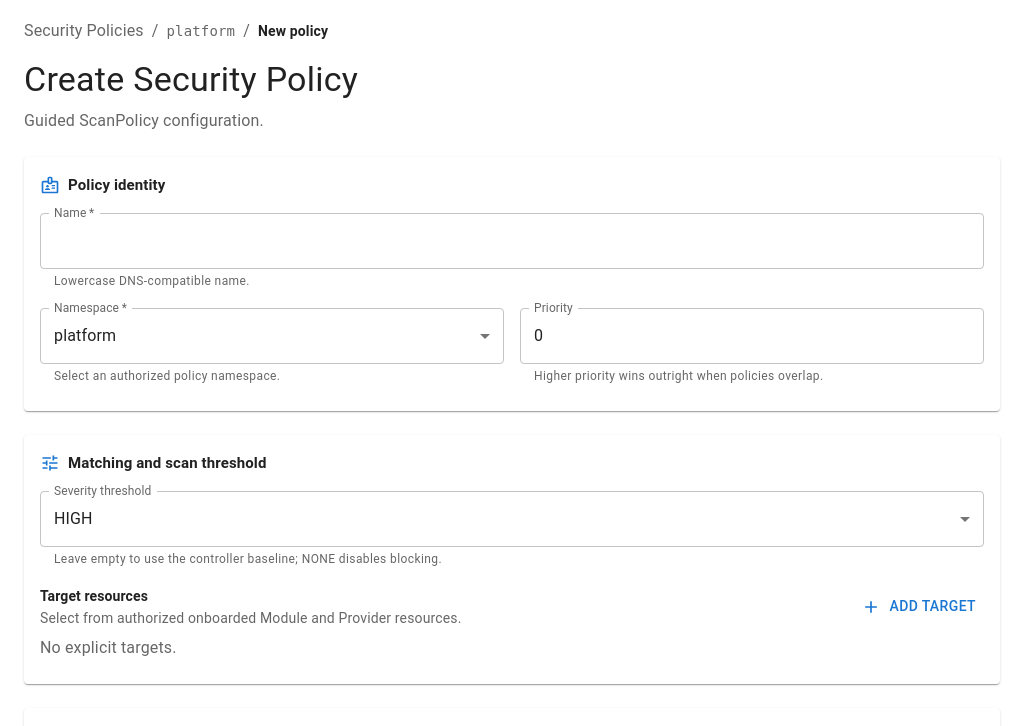
Test case: SecurityPoliciesSurface › previews an unsaved create draft without issuing a write request
Type "baseline" into the field labelled "Name *".
click(512, 241); type("baseline")  # box [40,213,984,269]
(page scrolled)
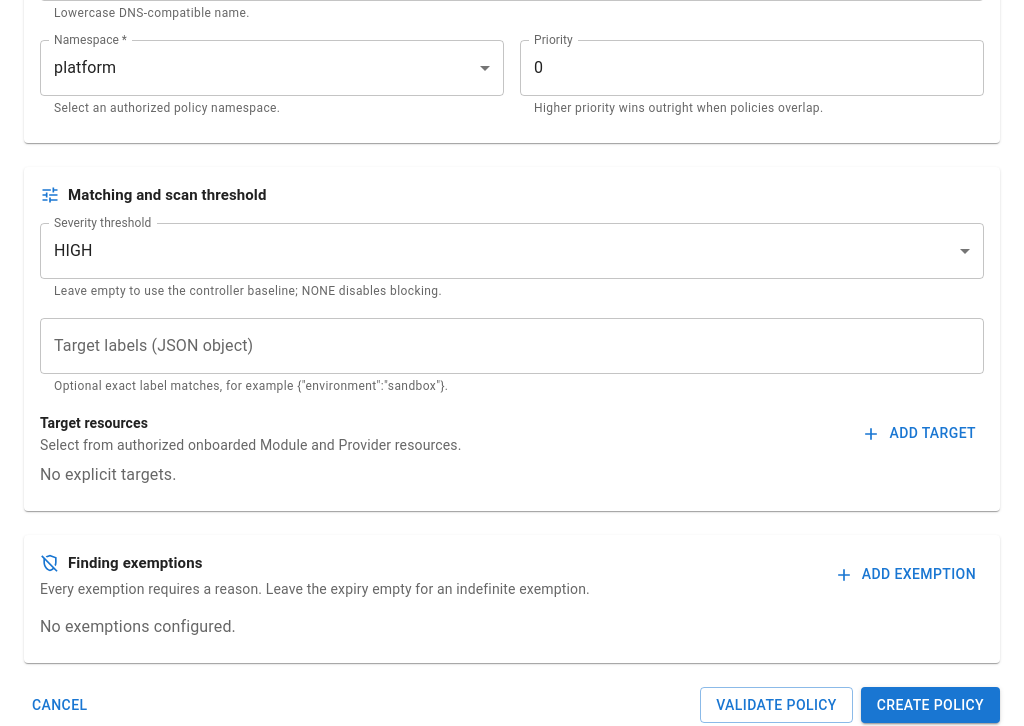
Now the button "Validate policy" is enabled
Click the button "Validate policy".
click(776, 705)  # box [700,687,853,723]
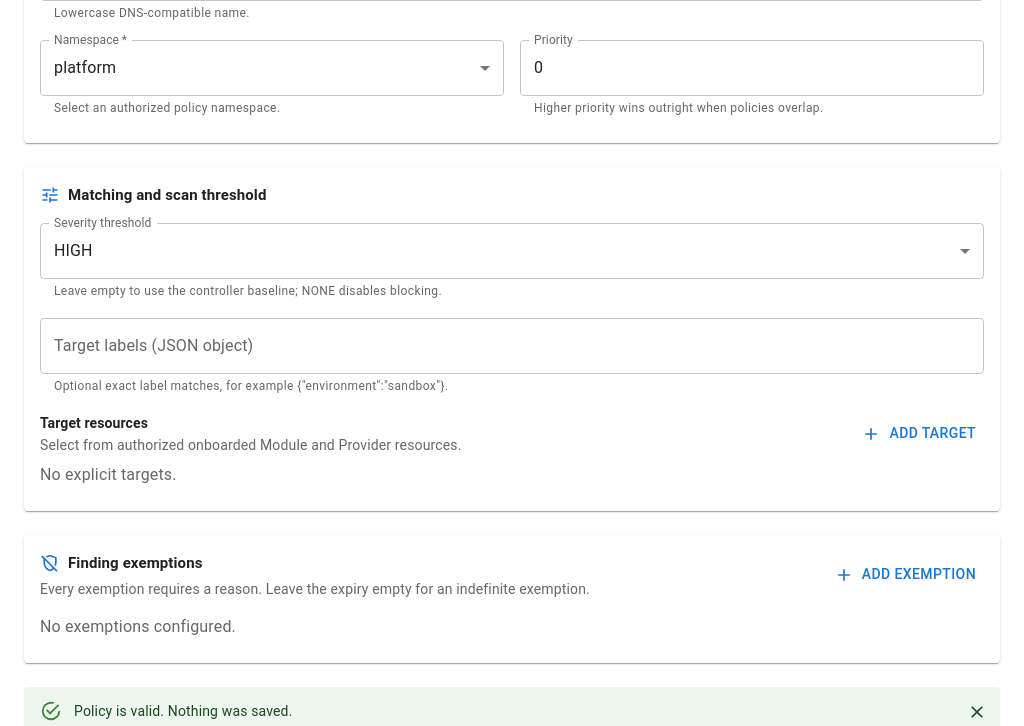
Now the text "Policy is valid. Nothing was saved." is shown, box [74,703,292,719]
